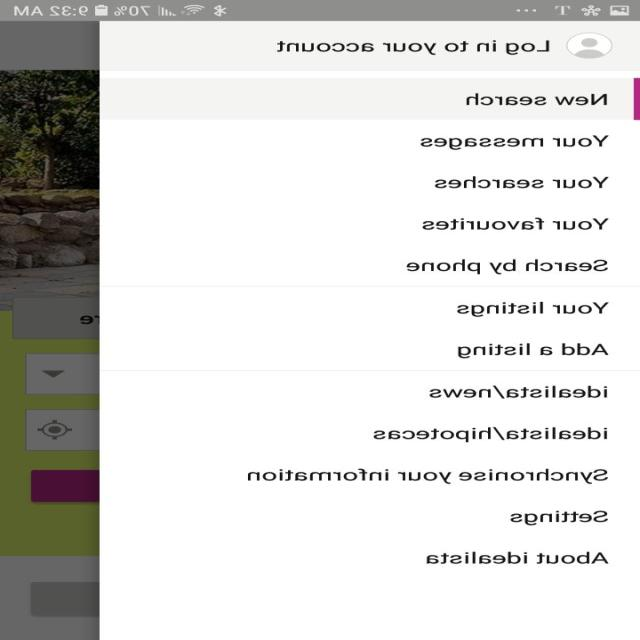Drawer: (100, 21, 640, 639)
Icon: (566, 32, 614, 59)
Text: (248, 468, 609, 484), (278, 40, 550, 56), (373, 426, 608, 443), (406, 259, 608, 274), (420, 135, 610, 150), (458, 342, 610, 359), (429, 384, 608, 398), (457, 301, 610, 317), (422, 217, 609, 230), (426, 551, 609, 564), (434, 176, 610, 188), (466, 92, 608, 106), (510, 510, 609, 525)
